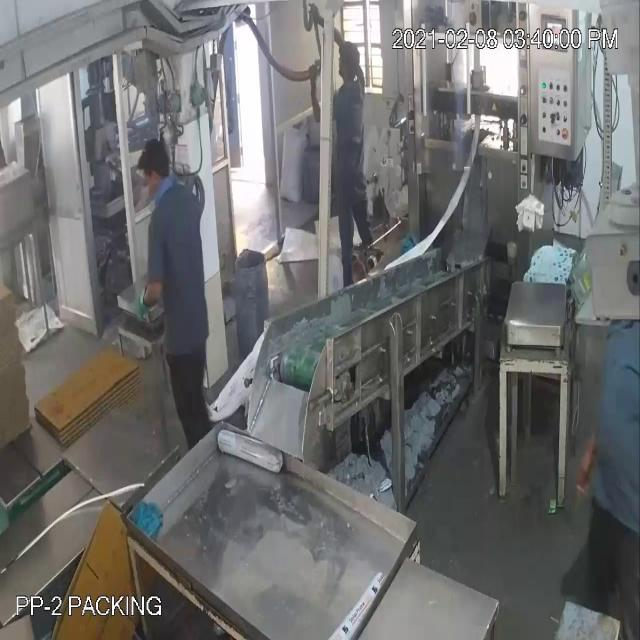Gloves: (130, 279, 163, 327)
